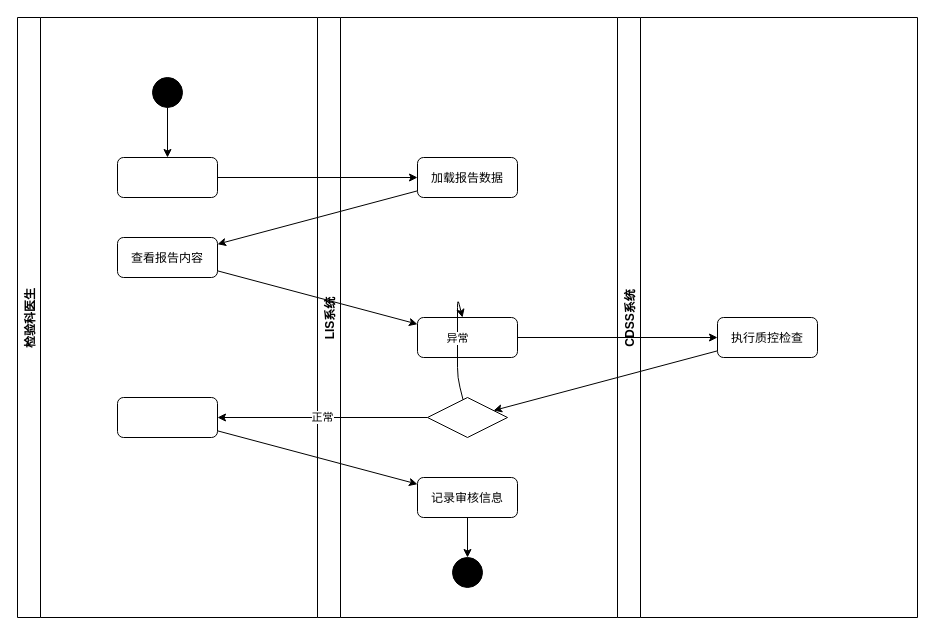
Image size: 935x635. Some labels were removed from this diagram. Here are the shapes that lost their labels. From the top down, the centre of each, then its label:
At [167,177]: "选择待审核报告".
At [467,337]: "调用质控服务".
At [167,417]: "确认审核结果".
At [467,417]: "质控结果?".
